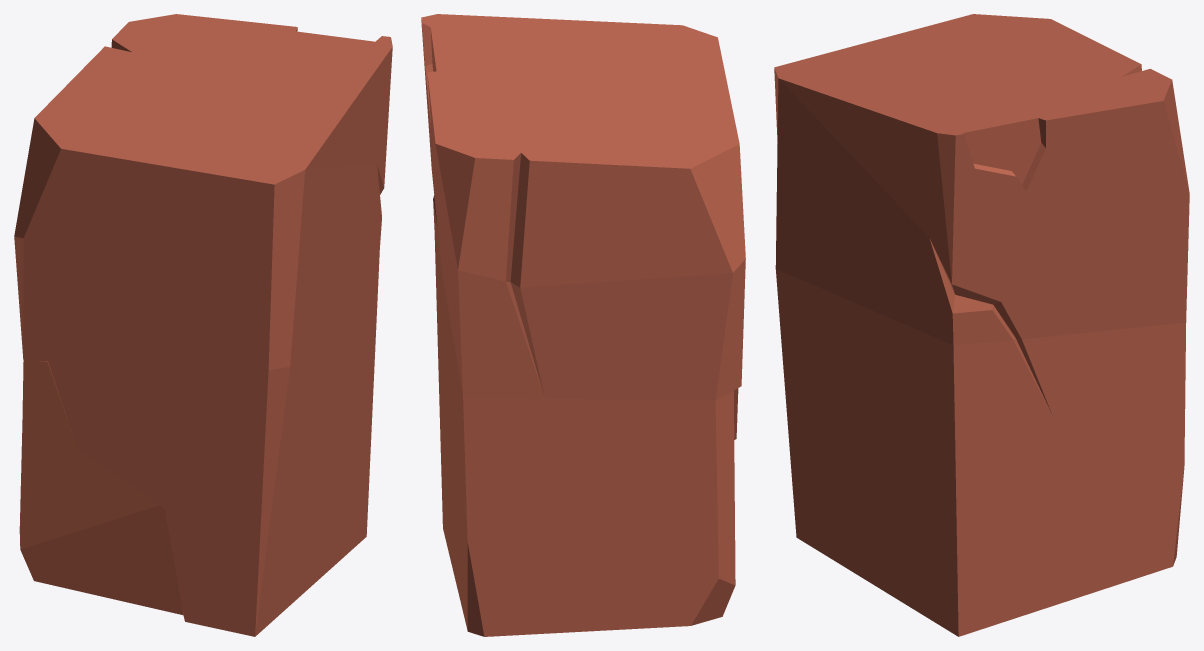
The model's file is Desert_Rock_A.fbx.
3 views of the same model, side by side, from view 1: azimuth 30°, elevation 25°; view 2: azimuth 150°, elevation 25°; view 3: azimuth 270°, elevation 25° (orthographic). The views are drawn at different scales.
Visible parts, largest first — view 1: Desert_Rock_A.014; view 2: Desert_Rock_A.014; view 3: Desert_Rock_A.014.
Boxes of the visible parts, x1=… form: Desert_Rock_A.014: x1=14, y1=14, x2=392, y2=636; Desert_Rock_A.014: x1=421, y1=14, x2=745, y2=636; Desert_Rock_A.014: x1=774, y1=14, x2=1189, y2=636.
Bounding box in the file's own units: 938 × 1293 × 949.
